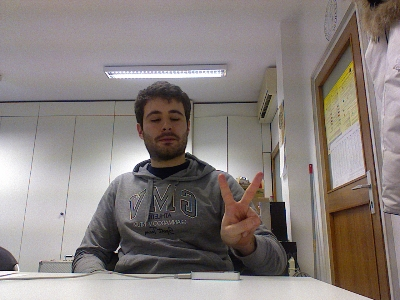剪刀: (215, 170, 265, 248)
